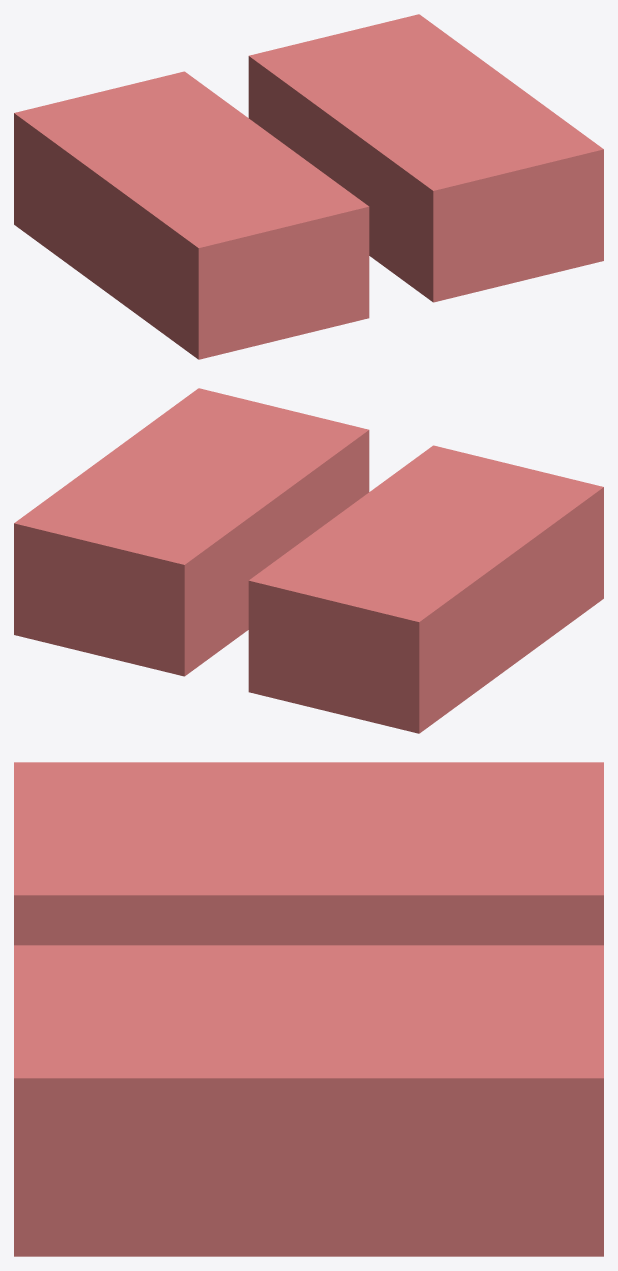
Rendered from sneakers.glb.
3 views of the same model, one above another, from view 1: azimuth 30°, elevation 25°; view 2: azimuth 150°, elevation 25°; view 3: azimuth 270°, elevation 25° (orthographic). The views are drawn at different scales.
Visible parts, largest first — view 1: RightShoe, LeftShoe; view 2: RightShoe, LeftShoe; view 3: LeftShoe, RightShoe.
Part boxes in pixels (<box>): RightShoe: <box>14,71,369,359</box>; LeftShoe: <box>248,14,603,302</box>; RightShoe: <box>248,445,603,733</box>; LeftShoe: <box>14,388,369,676</box>; LeftShoe: <box>14,945,603,1256</box>; RightShoe: <box>14,762,603,945</box>.
Bounding box in the file's own units: 0.38 × 0.1 × 0.3.
